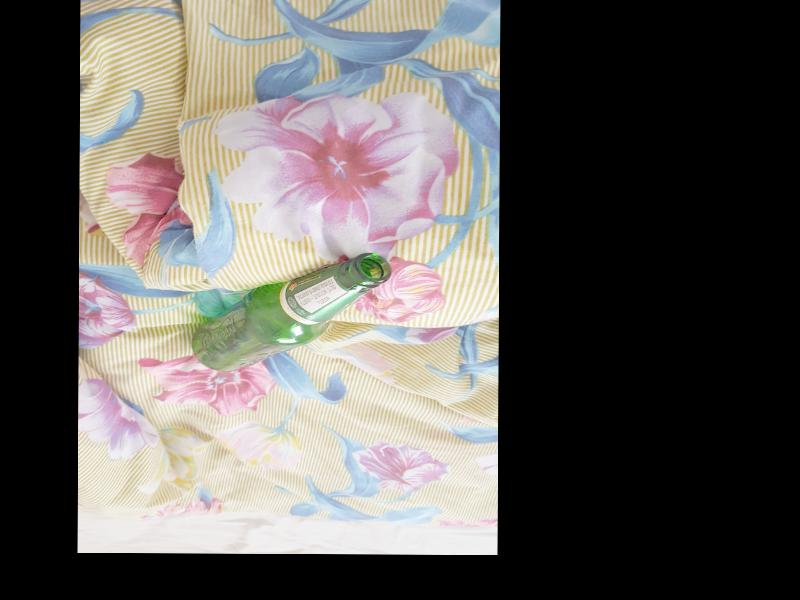Beer: (194, 250, 390, 371)
